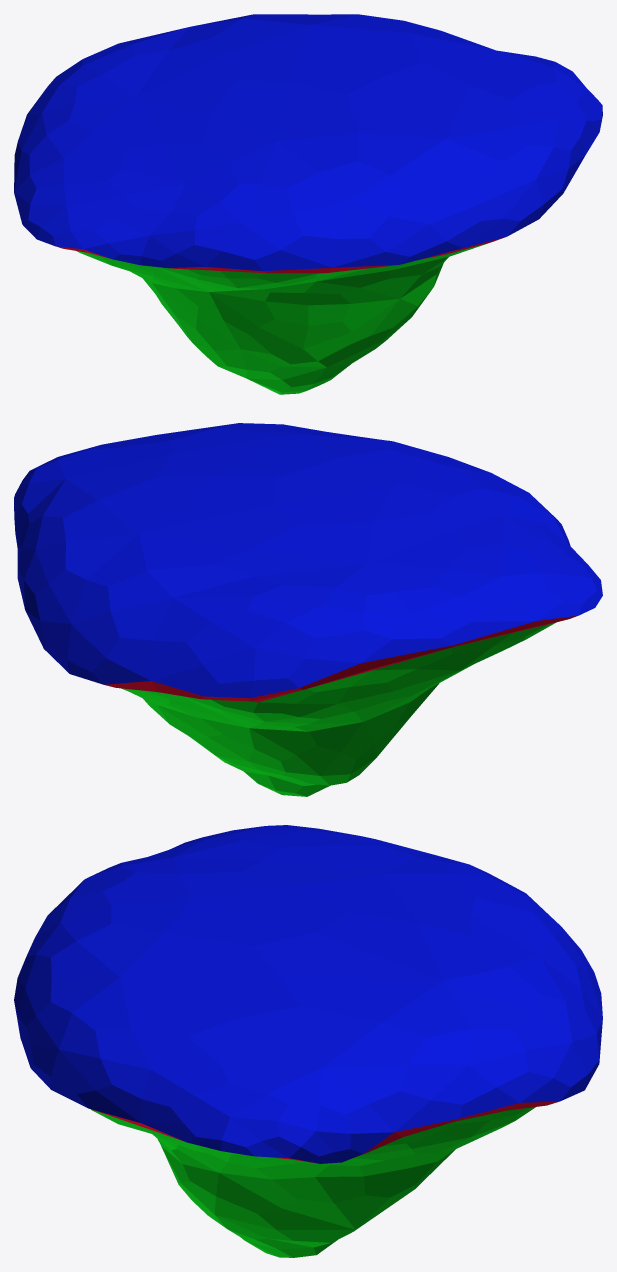
Rendered from Rock_Island_1.fbx.
3 views of the same model, one above another, from view 1: azimuth 30°, elevation 25°; view 2: azimuth 150°, elevation 25°; view 3: azimuth 270°, elevation 25° (orthographic). The views are drawn at different scales.
Parts seen in each view (by area): view 1: Rock_Island_1; view 2: Rock_Island_1; view 3: Rock_Island_1.
Boxes of the visible parts, x1,y1,x2,y2 form: Rock_Island_1: [14, 14, 602, 394]; Rock_Island_1: [14, 423, 602, 796]; Rock_Island_1: [14, 825, 602, 1257].
Size of the model in its own units: 1658 by 833 by 1363.
